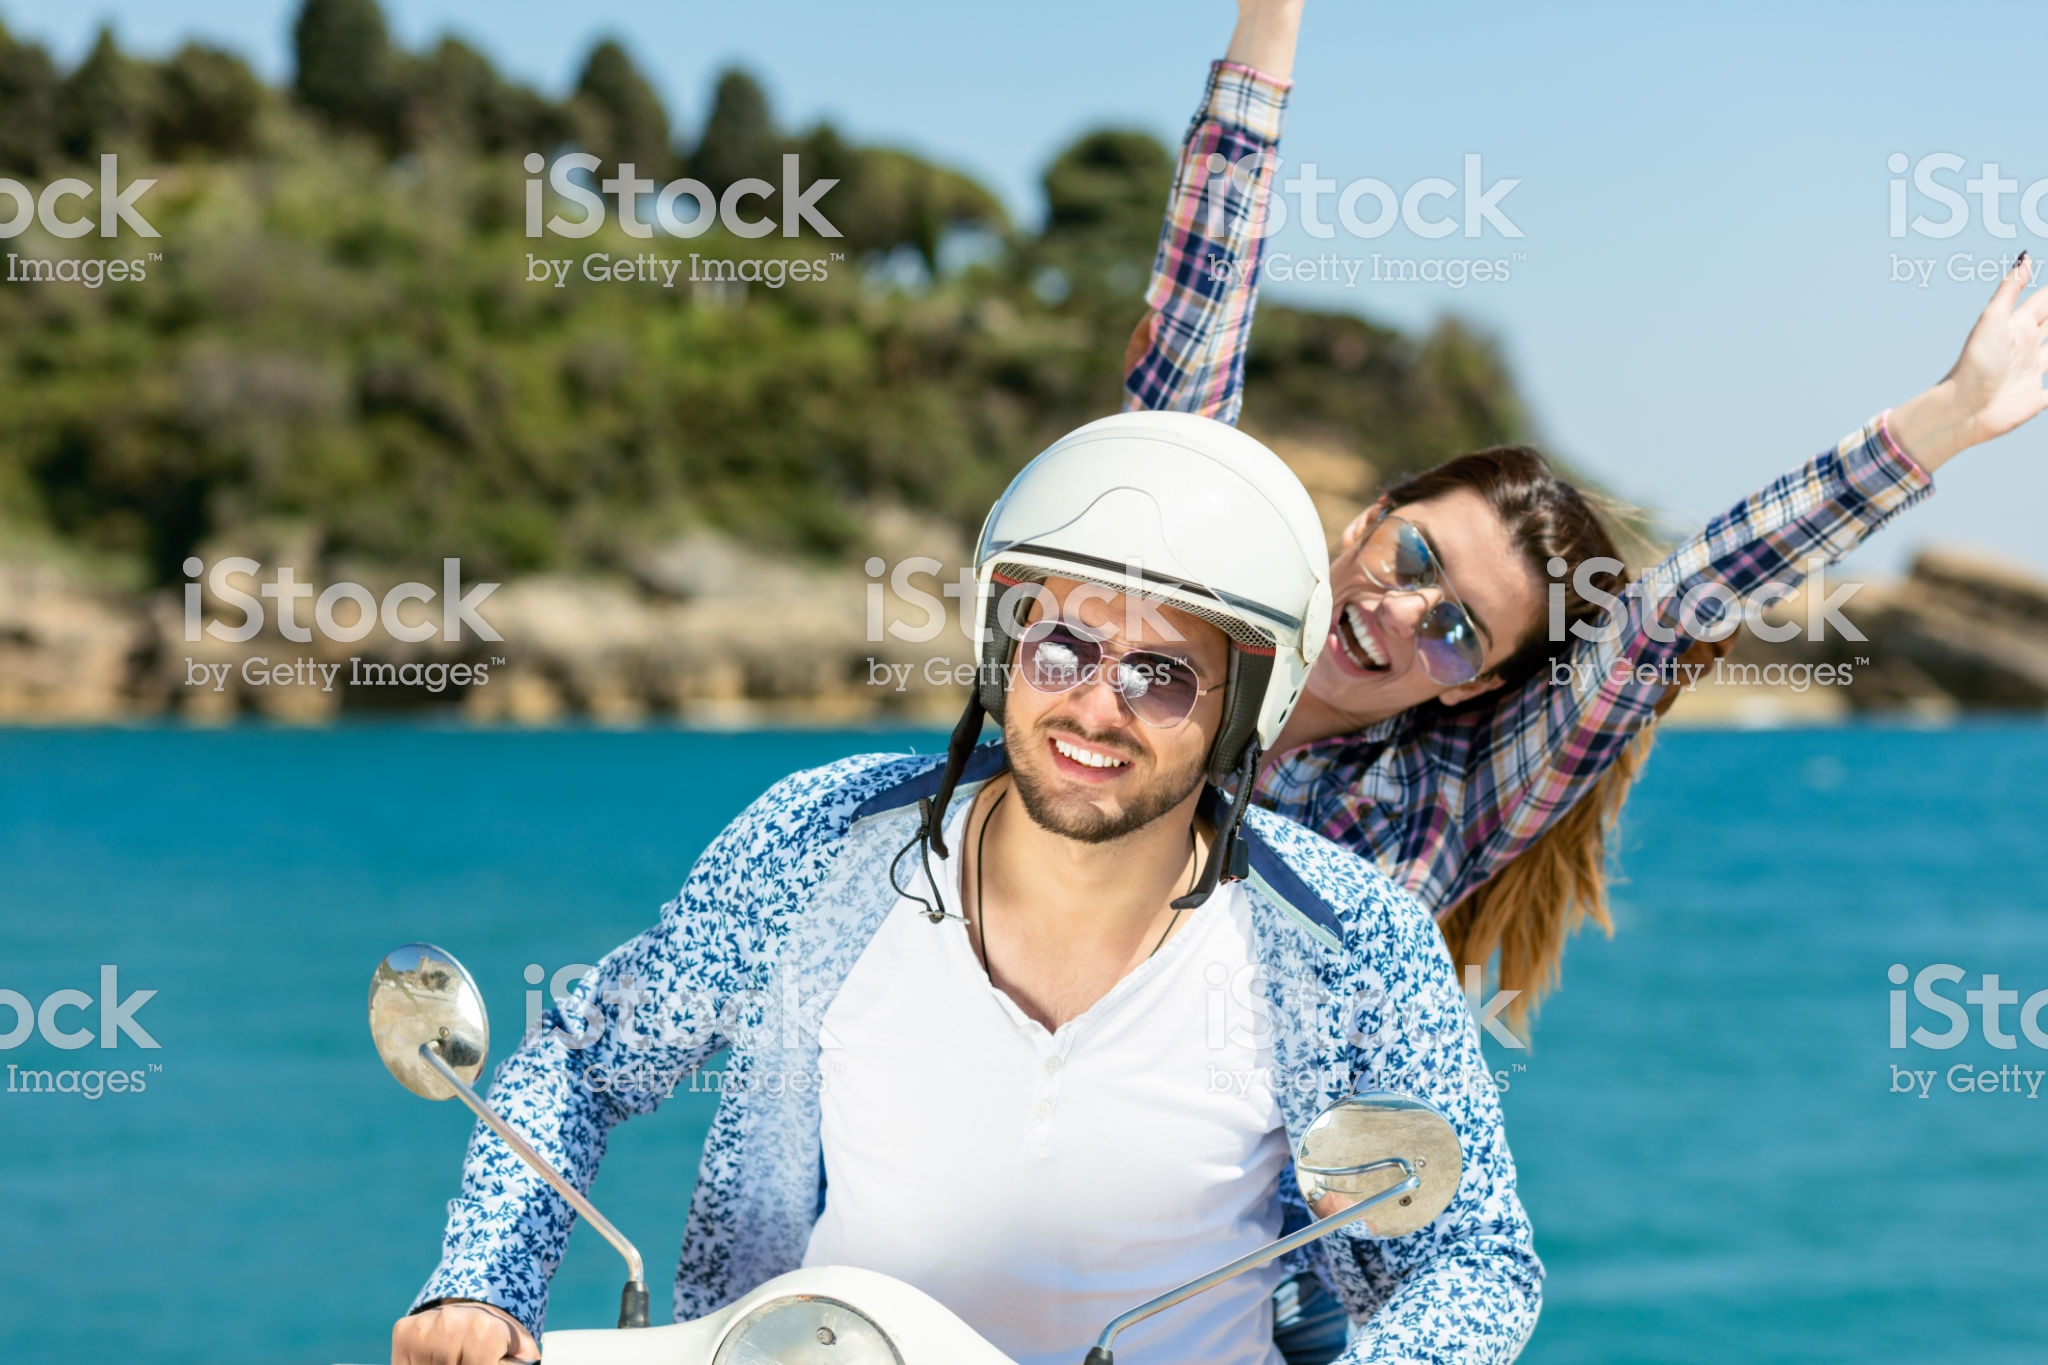helmet: (950, 390, 1331, 762)
